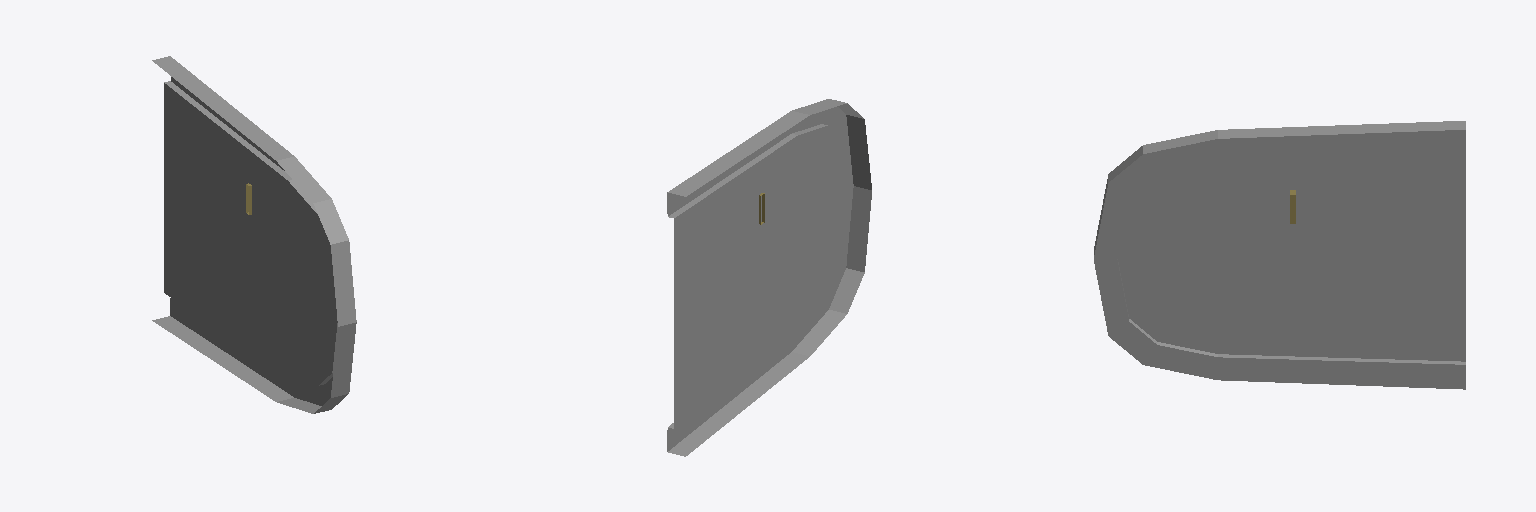
File: steeldoor.obj
The picture shows the model from 3 angles: view 1: azimuth 30°, elevation 25°; view 2: azimuth 150°, elevation 25°; view 3: azimuth 270°, elevation 25°; orthographic projection.
Visible parts, largest first — view 1: Steeldoor; view 2: Steeldoor; view 3: Steeldoor.
Part boxes in pixels (x1,y1,x2,y2): Steeldoor: (152, 56, 356, 413); Steeldoor: (667, 99, 871, 456); Steeldoor: (1094, 121, 1465, 389).
Bounding box in the file's own units: 0.0896 × 1 × 1.3.